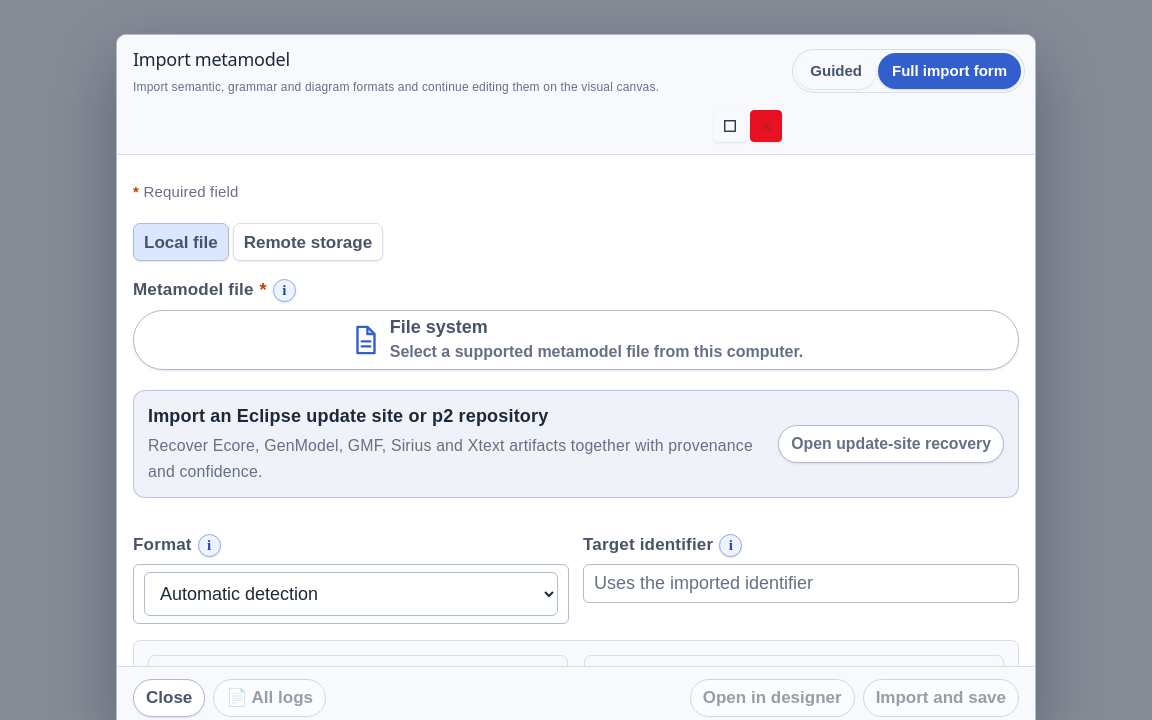
it: MetamodelImportDialog window behavior › shows contextual help for all import fields and a file-system source button
expect the button "File system" is shown: met, box [133,310,1019,370]
Click the button named "Information about Format".
click(209, 545)  # box [198,534,221,557]
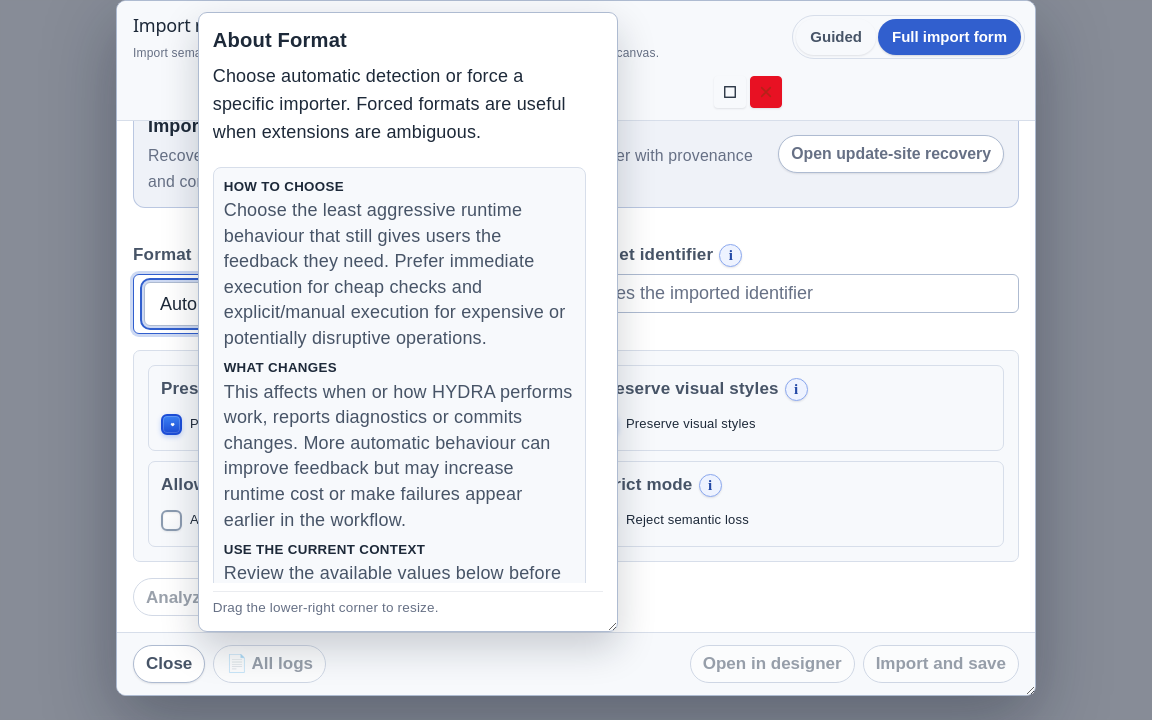
expect the tooltip shows "force a specific importer": met, box [213,66,566,142]
expect the button named "Information about Strict mode" is shown: met, box [698,474,722,497]
